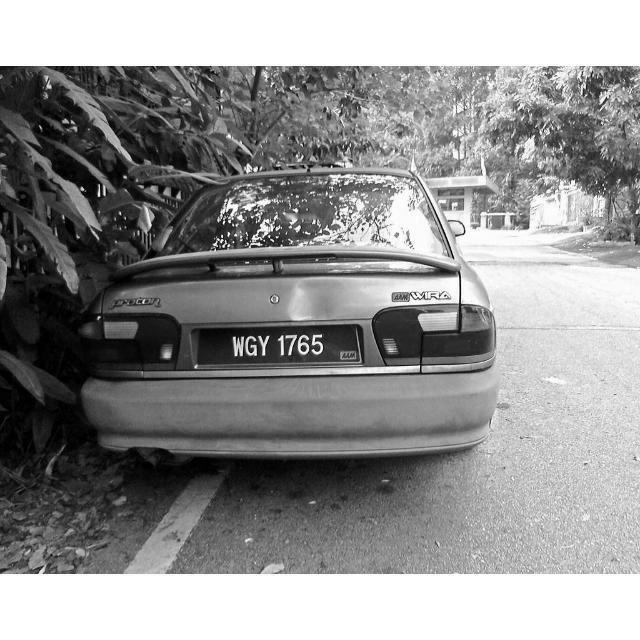boot-dent: (228, 282, 416, 379)
